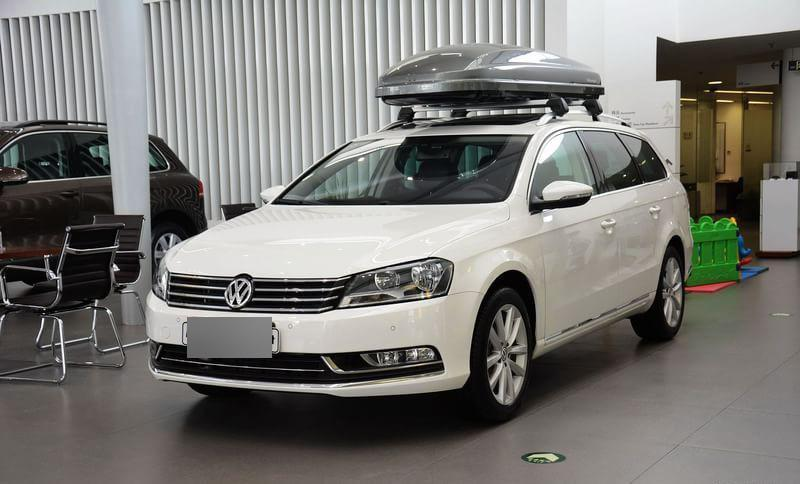Wagon: (143, 41, 696, 425)
